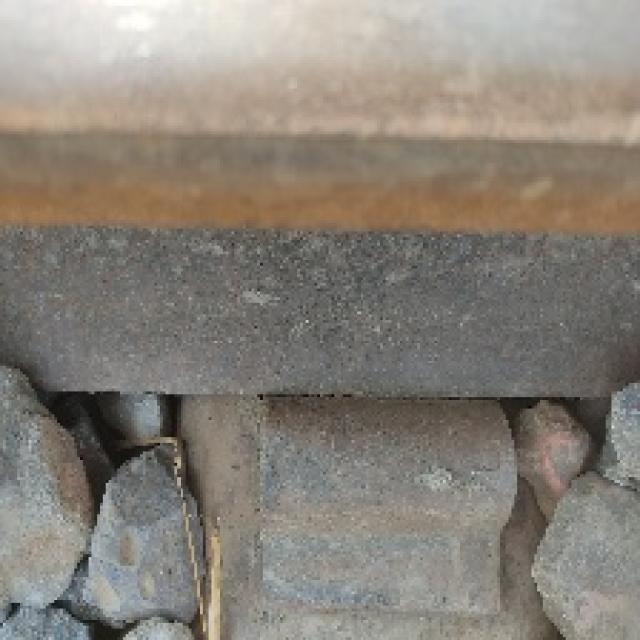Missing Fastener: (232, 379, 533, 631)
